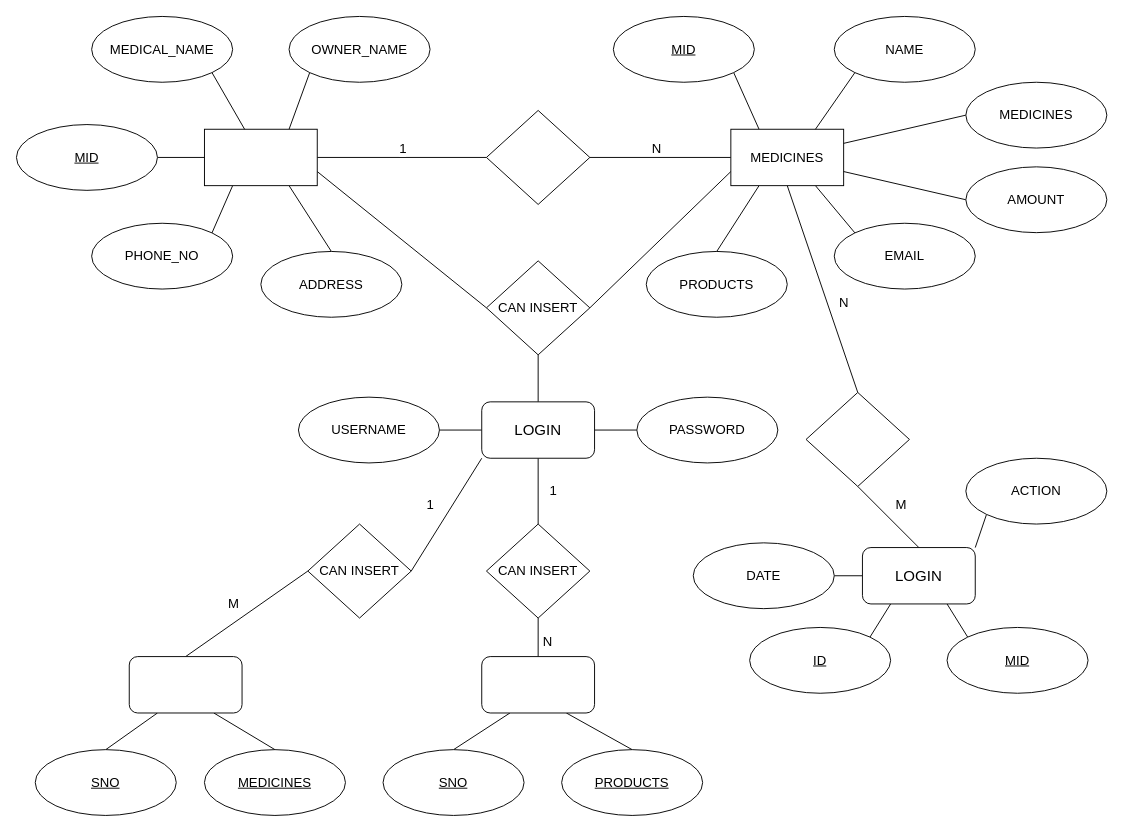
This 1123x832 diagram has some shape labels left out. Here are the shapes that lost their labels. From the top down, the box of each, then its label:
(204, 128, 317, 186): POSTS
(486, 110, 590, 204): CAN ORDER
(805, 392, 909, 486): ADDS
(128, 656, 242, 713): ADDMP
(481, 656, 595, 713): ADDPD
